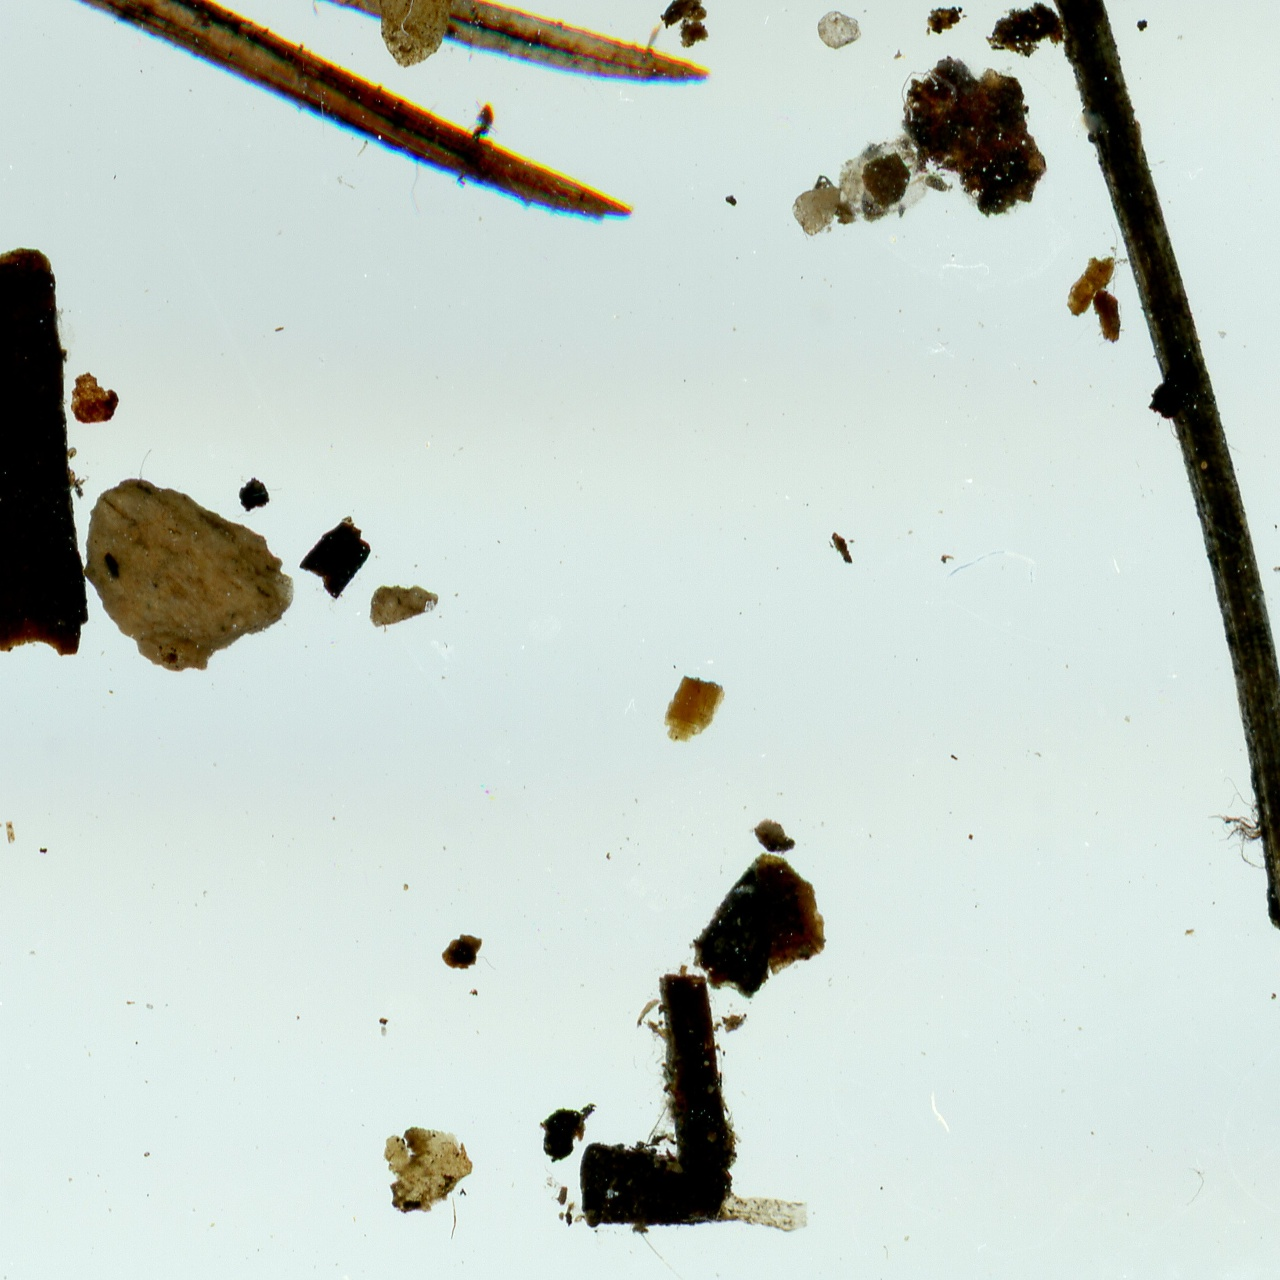arthropod: (462, 91, 500, 198)
